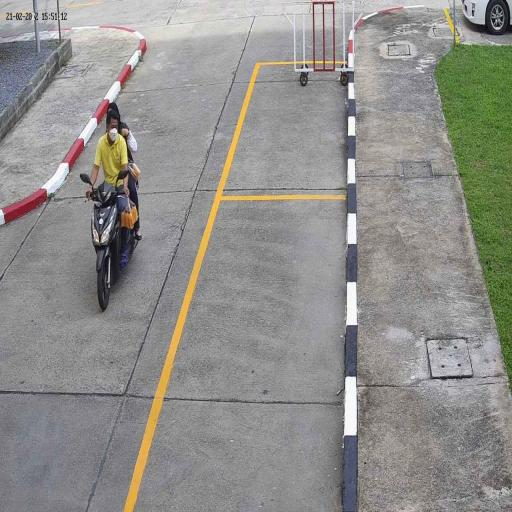motorcycle: (90, 184, 120, 312)
